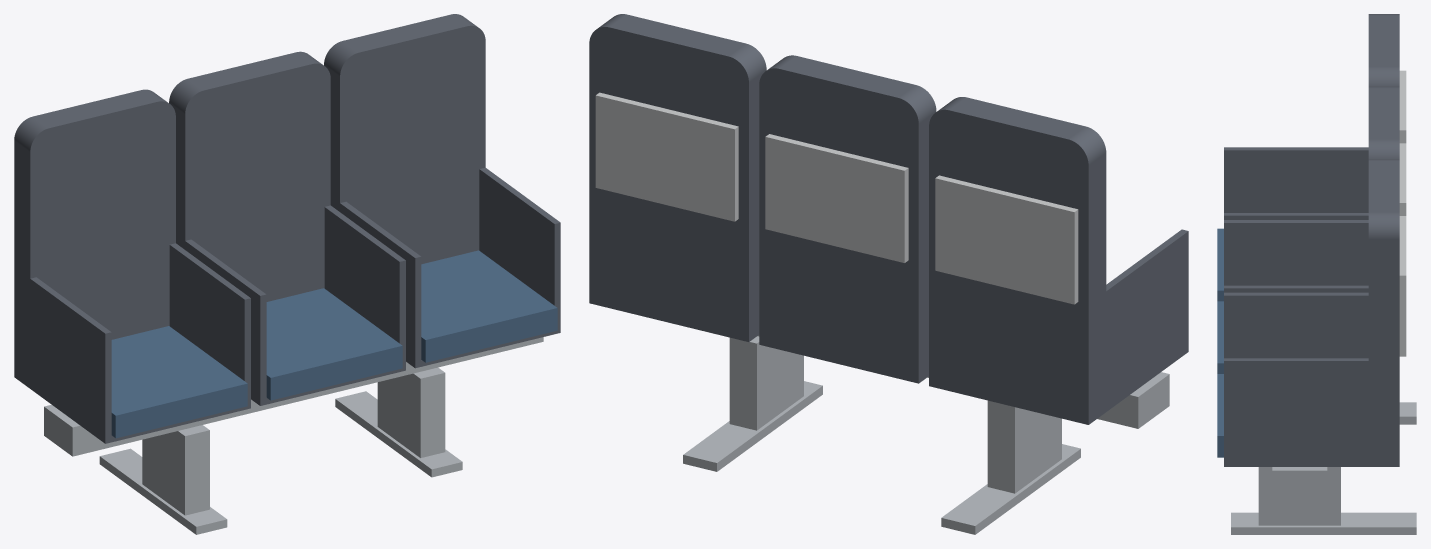
The model's file is step_05.glb.
3 views of the same model, side by side, from view 1: azimuth 30°, elevation 25°; view 2: azimuth 150°, elevation 25°; view 3: azimuth 270°, elevation 25° (orthographic). The views are drawn at different scales.
Parts seen in each view (by area): view 1: part__fixed shells, part__sliding seat pans and cushions, part__pedestal legs and track rails, part__box beam; view 2: part__fixed shells, part__tray tables (stowed), part__pedestal legs and track rails, part__box beam; view 3: part__fixed shells, part__pedestal legs and track rails, part__tray tables (stowed), part__box beam, part__sliding seat pans and cushions.
Part boxes in pixels (x1,y1,x2,y2): part__fixed shells: (14, 14, 560, 443); part__sliding seat pans and cushions: (111, 250, 557, 438); part__pedestal legs and track rails: (99, 367, 462, 534); part__box beam: (44, 337, 543, 456); part__fixed shells: (589, 14, 1188, 424); part__tray tables (stowed): (595, 92, 1078, 304); part__pedestal legs and track rails: (683, 336, 1080, 534); part__box beam: (758, 335, 1169, 428); part__fixed shells: (1224, 14, 1399, 466); part__pedestal legs and track rails: (1231, 402, 1416, 534); part__tray tables (stowed): (1399, 70, 1406, 356); part__box beam: (1272, 467, 1327, 498); part__sliding seat pans and cushions: (1217, 228, 1223, 457).
Bounding box in the file's own units: 1520 × 1150 × 580.
